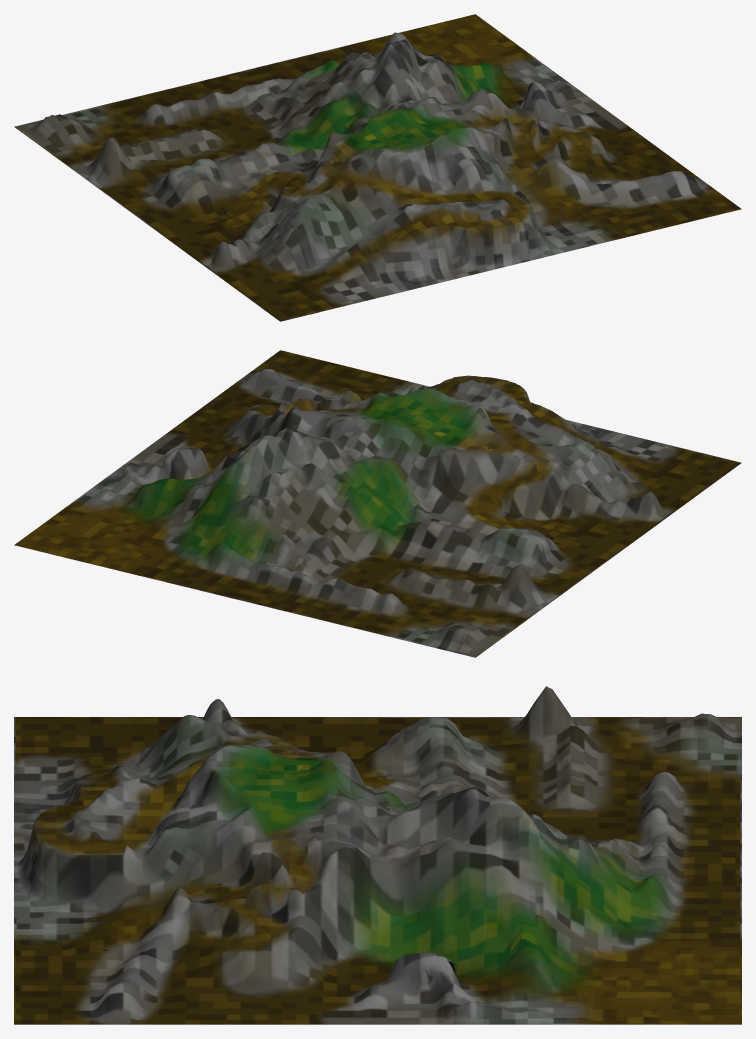
Rendered from terrainNew.fbx.
3 views of the same model, one above another, from view 1: azimuth 30°, elevation 25°; view 2: azimuth 150°, elevation 25°; view 3: azimuth 270°, elevation 25° (orthographic). The views are drawn at different scales.
Visible parts, largest first — view 1: Plane; view 2: Plane; view 3: Plane.
Part boxes in pixels (x1=…): Plane: x1=14, y1=14, x2=741, y2=321; Plane: x1=14, y1=350, x2=741, y2=657; Plane: x1=14, y1=686, x2=741, y2=1024.
Size of the model in its own units: 2000 by 361 by 2000.
